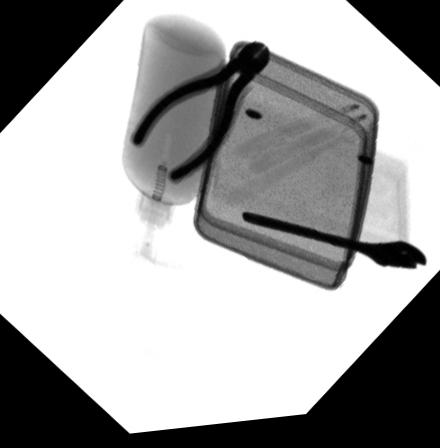Pliers: (129, 44, 271, 191)
Wrench: (241, 215, 425, 279)
